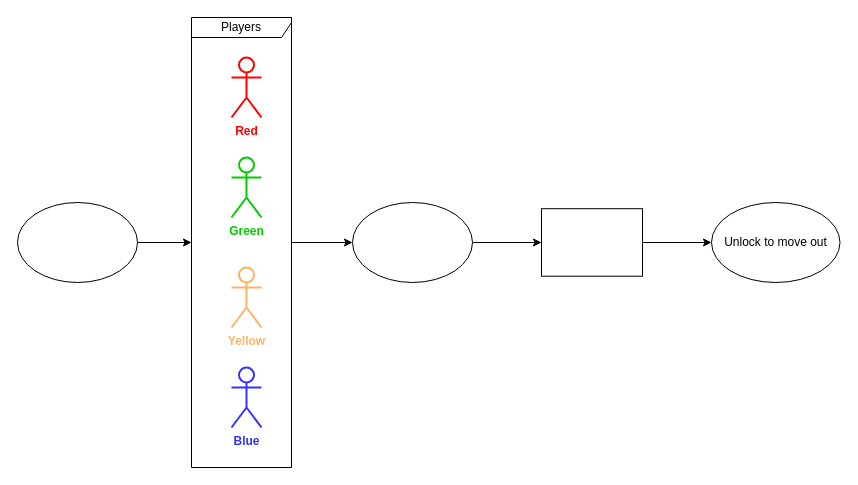
The diagram is 858 pixels wide and 485 high, and some of its shapes have lost their labels. The centre of each missing label's shape, as x and y in pixels:
Controller 1: Is it a 6?: the point at 591,242
Find a user to start: the point at 77,242
Rolling the dice: the point at 412,242
